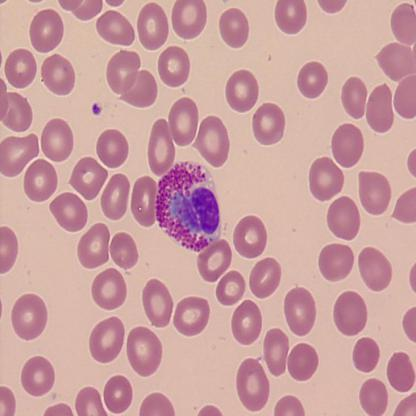Eosinophil: (152, 159, 223, 253)
